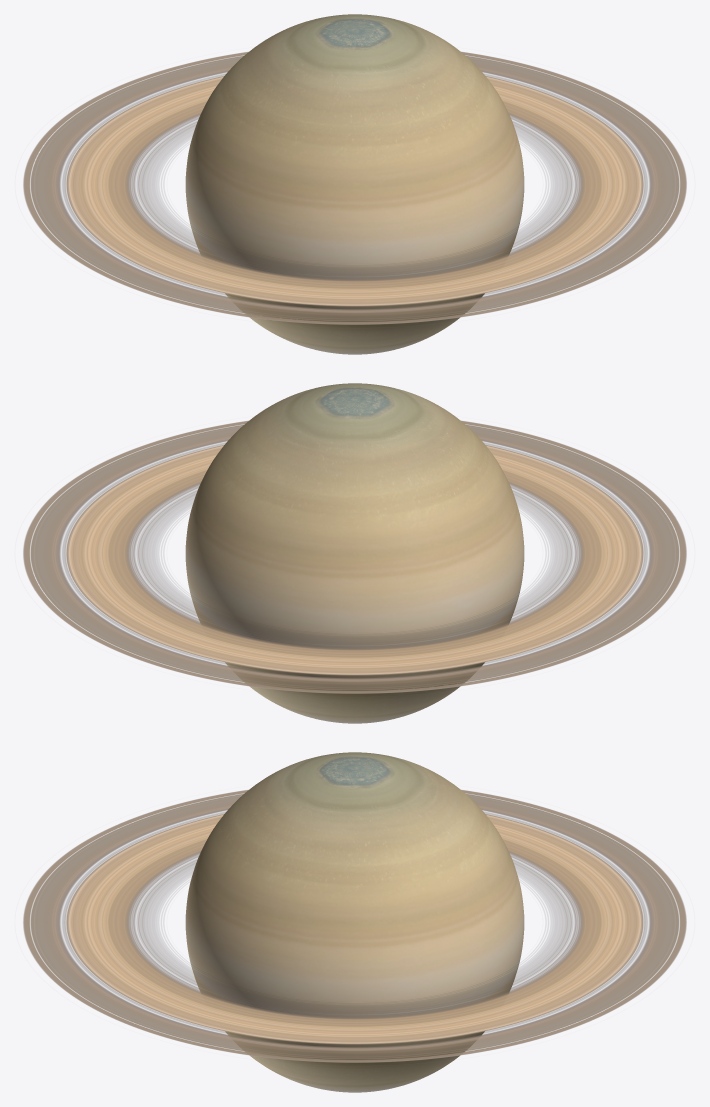
The model's file is saturn-D0XQ6WXO.glb.
The picture shows the model from 3 angles, top to bottom: view 1: azimuth 30°, elevation 25°; view 2: azimuth 150°, elevation 25°; view 3: azimuth 270°, elevation 25°; orthographic projection.
Parts seen in each view (by area): view 1: Sphere_3, Circle_2; view 2: Sphere_3, Circle_2; view 3: Sphere_3, Circle_2.
Part boxes in pixels (<box>): Sphere_3: <box>185,14,524,354</box>; Circle_2: <box>23,51,686,324</box>; Sphere_3: <box>185,383,524,723</box>; Circle_2: <box>23,420,686,693</box>; Sphere_3: <box>185,752,524,1092</box>; Circle_2: <box>23,789,686,1062</box>.
Bounding box in the file's own units: 4 × 2 × 4.
2 materials, 2 textured.
